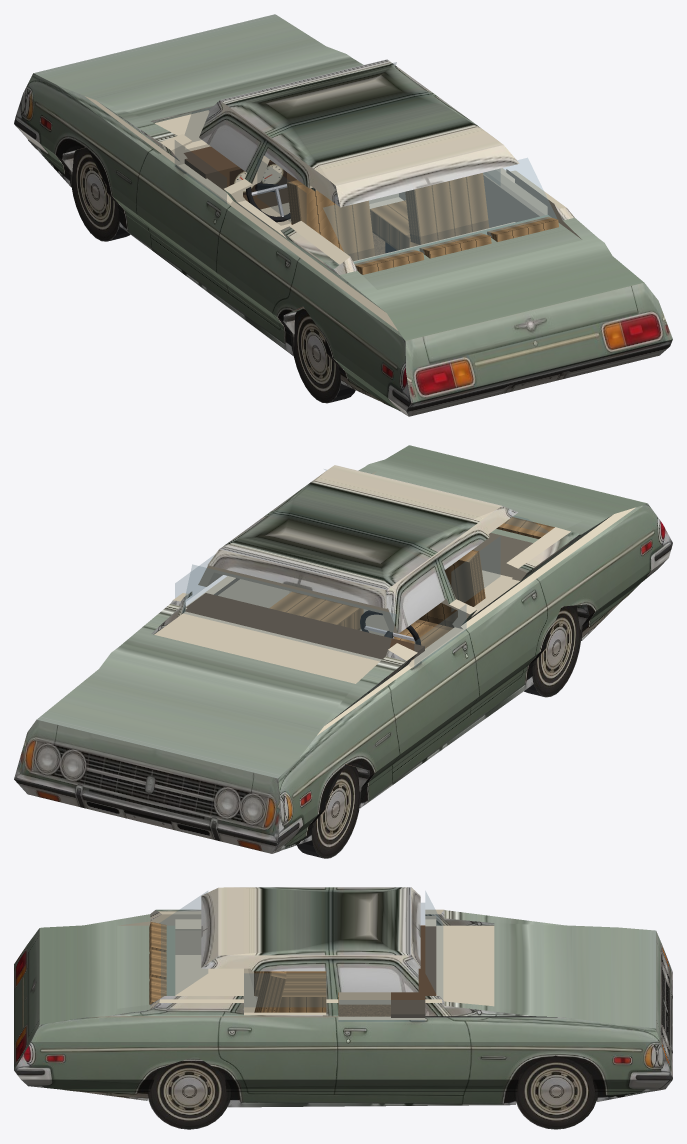
Rendered from sedan.glb.
3 renders of one model, top to bottom at view 1: azimuth 30°, elevation 25°; view 2: azimuth 150°, elevation 25°; view 3: azimuth 270°, elevation 25°, orthographic. The views are drawn at different scales.
Visible parts, largest first — view 1: sedan, sedan_cabin, wheel_BL, wheel_FL; view 2: sedan, sedan_cabin, wheel_FL, wheel_BL; view 3: sedan, sedan_cabin, wheel_FR, wheel_BR.
Boxes of the visible parts, <box> form: sedan: <box>14,14,672,416</box>; sedan_cabin: <box>175,62,558,274</box>; wheel_BL: <box>294,308,355,403</box>; wheel_FL: <box>71,147,130,241</box>; sedan: <box>14,445,672,853</box>; sedan_cabin: <box>175,469,554,667</box>; wheel_FL: <box>297,764,359,858</box>; wheel_BL: <box>524,605,581,697</box>; sedan: <box>14,887,672,1107</box>; sedan_cabin: <box>149,891,442,1021</box>; wheel_FR: <box>516,1055,596,1129</box>; wheel_BR: <box>148,1056,228,1129</box>.
Bounding box in the file's own units: 1.84 × 1.33 × 4.8.
Materials: 11 (4 with a texture image).
